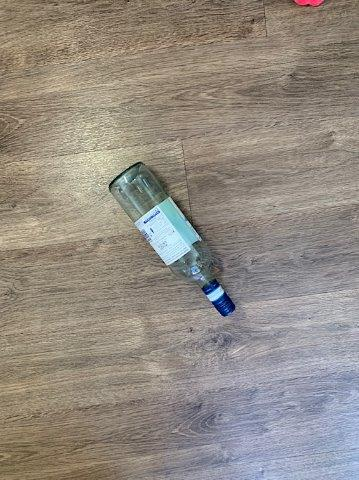botolkaca: (111, 163, 235, 317)
